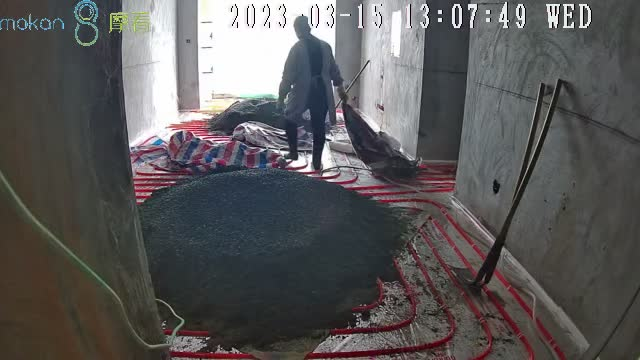people: (276, 16, 349, 170)
window: (197, 1, 339, 106)
